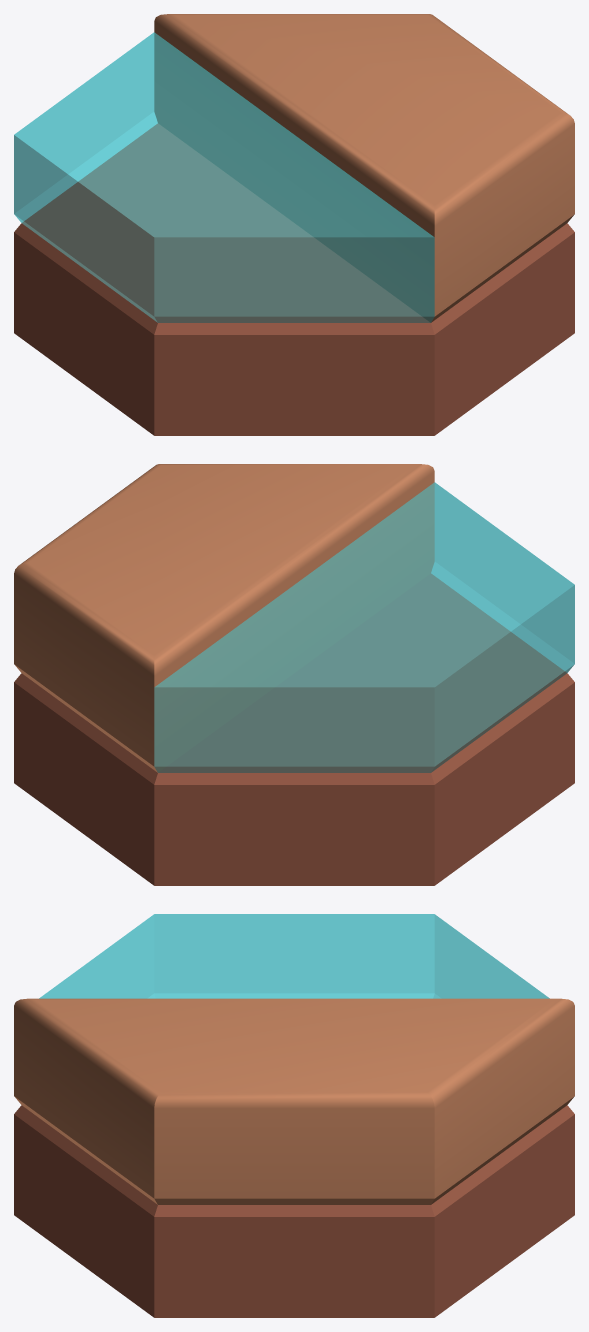
The model's file is hex_rock_waterB_detail.fbx.
3 views of the same model, one above another, from view 1: azimuth 30°, elevation 25°; view 2: azimuth 150°, elevation 25°; view 3: azimuth 270°, elevation 25° (orthographic).
Visible parts, largest first — view 1: hex_rock_waterB_detail; view 2: hex_rock_waterB_detail; view 3: hex_rock_waterB_detail.
Part boxes in pixels (x1,y1,x2,y2): hex_rock_waterB_detail: (14,14,574,435); hex_rock_waterB_detail: (14,464,574,885); hex_rock_waterB_detail: (14,914,574,1317).
Bounding box in the file's own units: 2 × 1 × 2.31.
